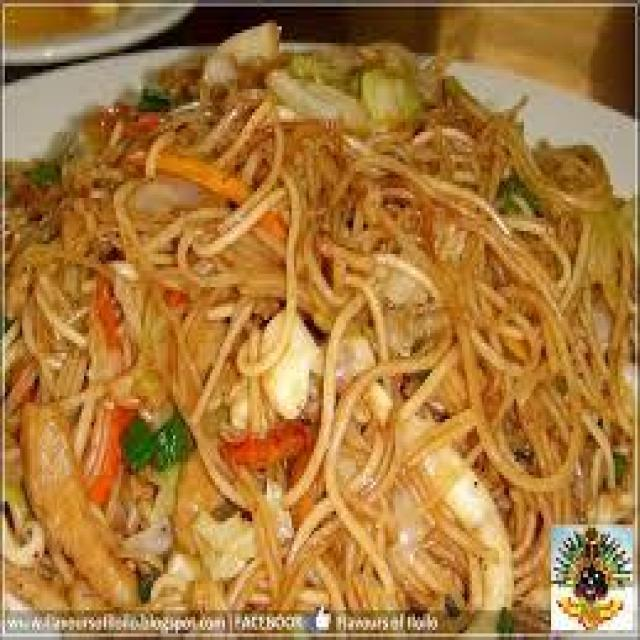pancit bihon: (0, 49, 524, 601)
